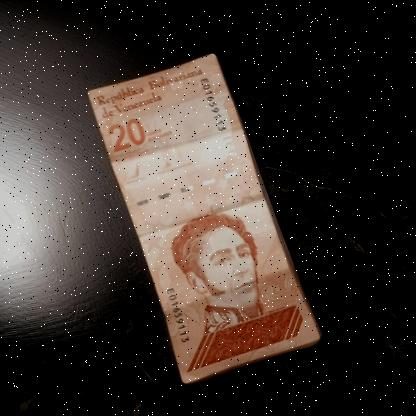twenty-front-vef: (81, 44, 327, 388)
